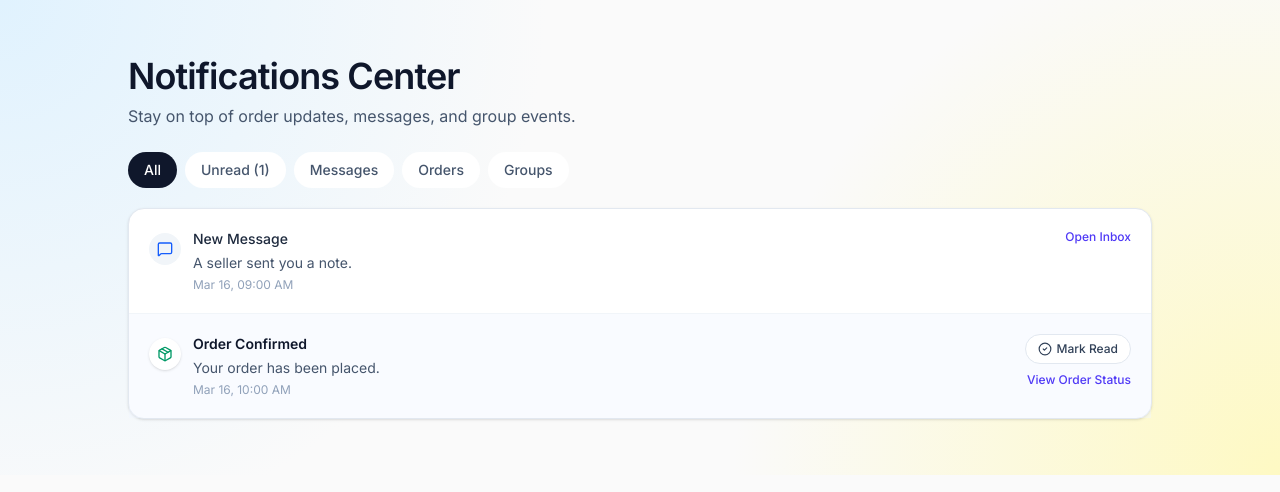
Test case: Notifications page › filters notifications by category
The width and height of the screenshot is (1280, 492).
Click the button "Orders" at point(441, 170), box [402, 152, 480, 188]
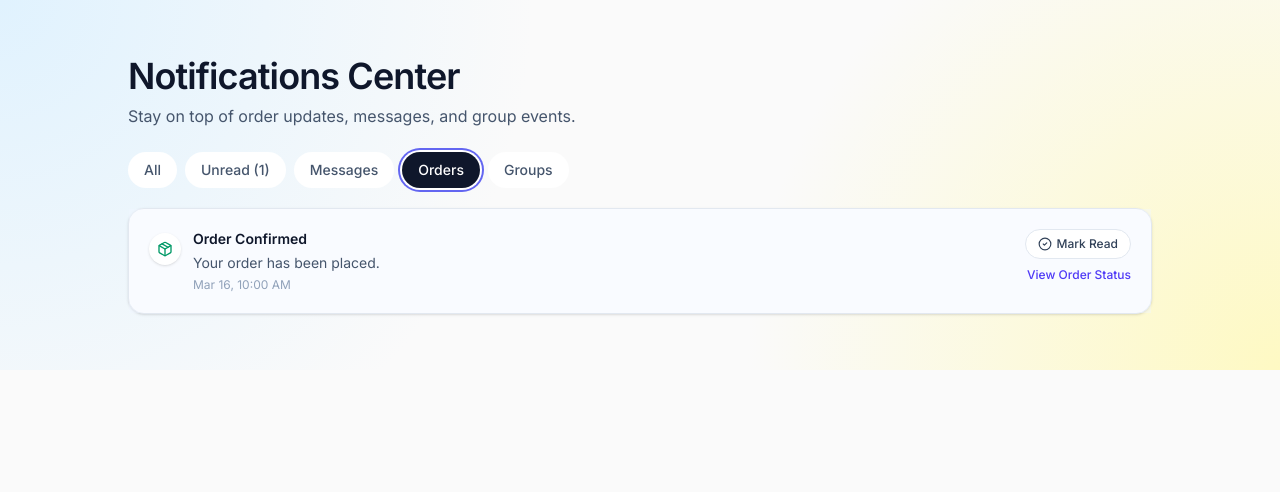
Check: the text "Order Confirmed" is shown, box [193, 230, 307, 247]
Check: the text "New Message" is gone
